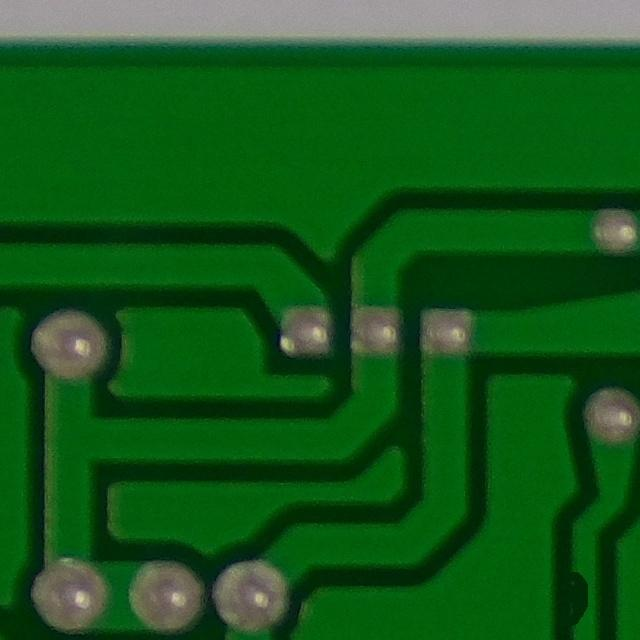mouse_bite: (547, 555, 608, 640)
